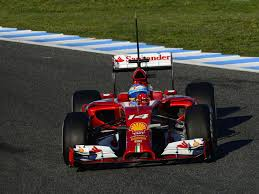FormulaOneCar: (59, 48, 224, 168)
